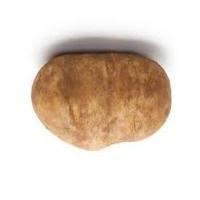biodegradable: (30, 51, 173, 151)
